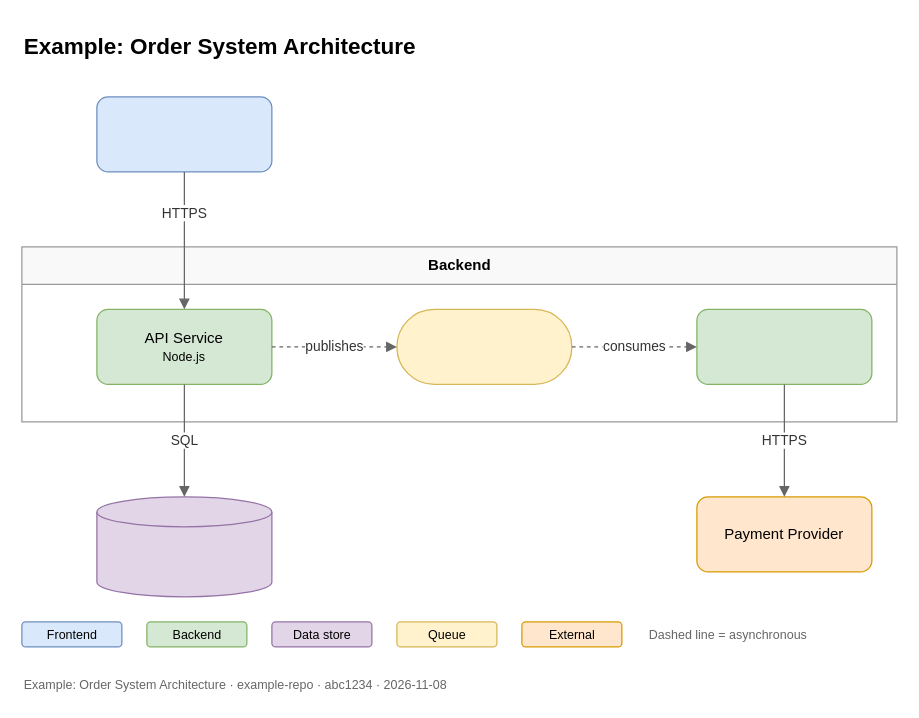
The diagram is 919 pixels wide and 718 high, and some of its shapes have lost their labels. Here are the shapes that lost their labels. From the top down, the box of each, then its label:
(96, 96, 272, 172): Web App React
(396, 308, 572, 384): Job Queue Redis
(696, 308, 872, 384): Worker Node.js
(96, 496, 272, 597): Orders DB PostgreSQL
